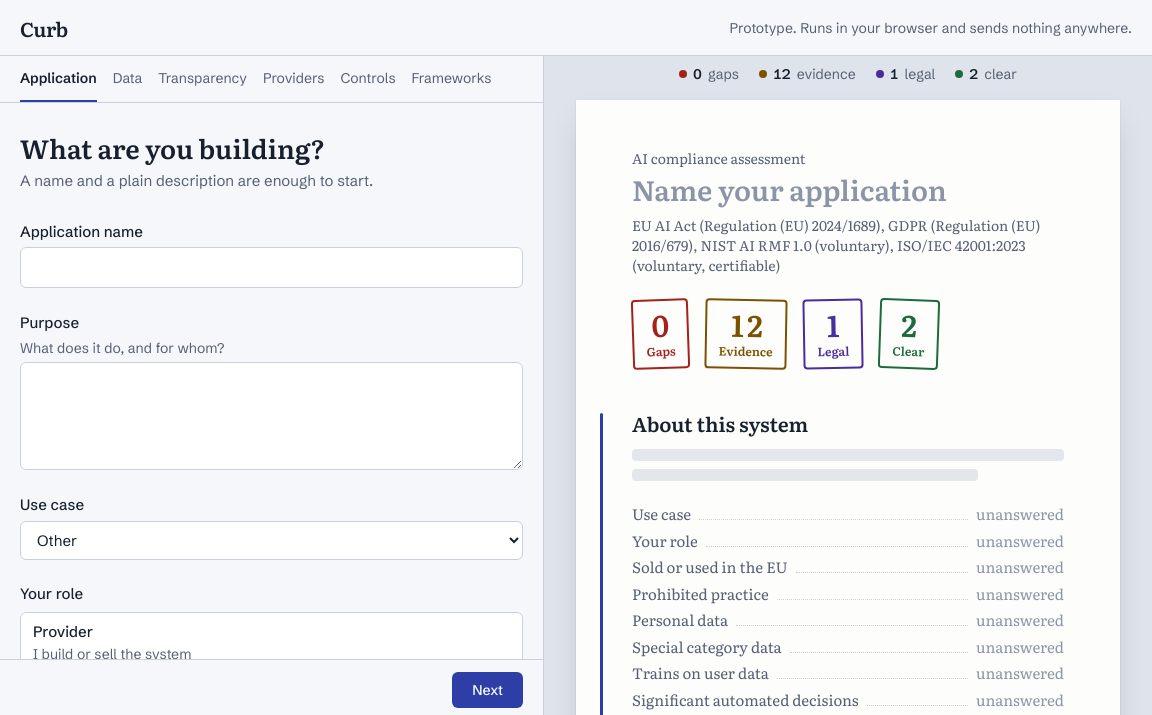
Test: Workspace › walks the steps with Back and Next and marks the current one
Click the button "Next" at x=488, y=690, box [452,672,523,708]
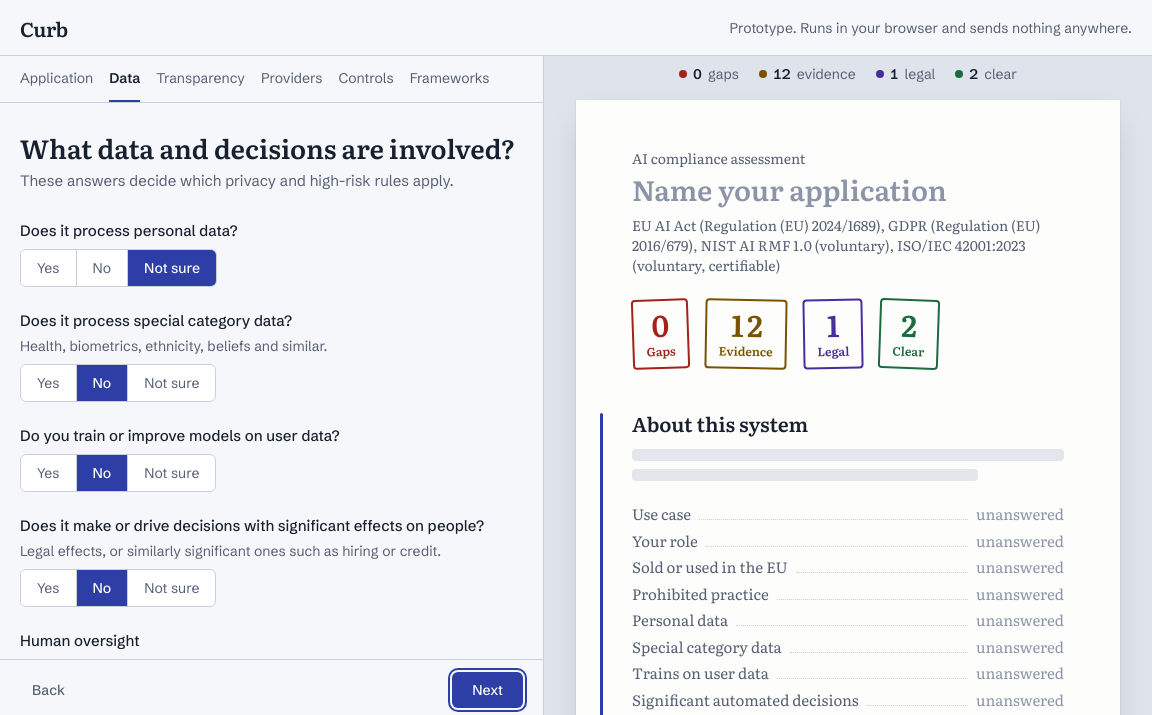
Now the heading "What data and decisions are involved?" is shown, box [20,131,523,164]
Click the button "Back" at x=48, y=690, box [20,672,77,708]
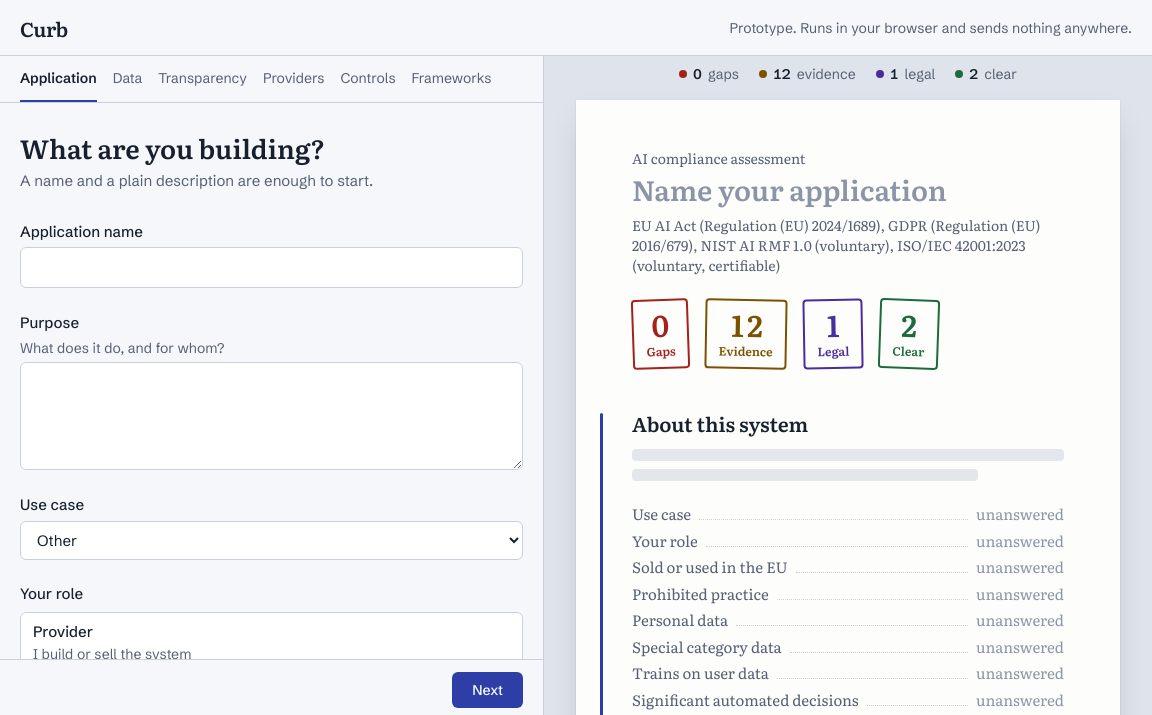
Now the field labelled "Application name" is shown, box [20,247,523,288]
